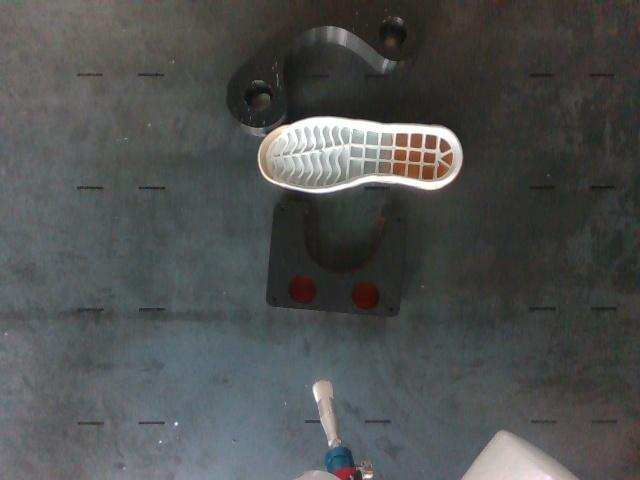shoes: (260, 118, 460, 188)
